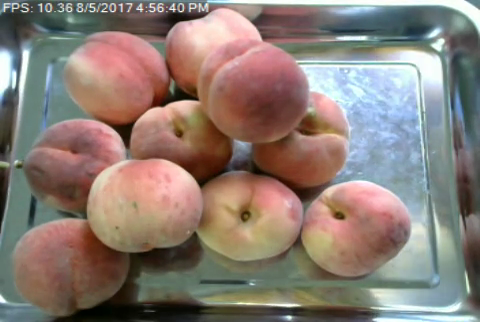Peach: (11, 215, 126, 315), (164, 8, 276, 110), (197, 40, 308, 142), (89, 155, 199, 252), (300, 180, 412, 275), (63, 29, 169, 126), (195, 171, 304, 259), (250, 90, 348, 183), (22, 119, 123, 209), (128, 100, 232, 181)
